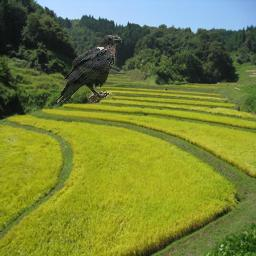Crow: (55, 35, 122, 103)
